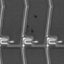dust: (30, 29, 35, 34), (33, 14, 38, 18), (26, 24, 30, 28)
